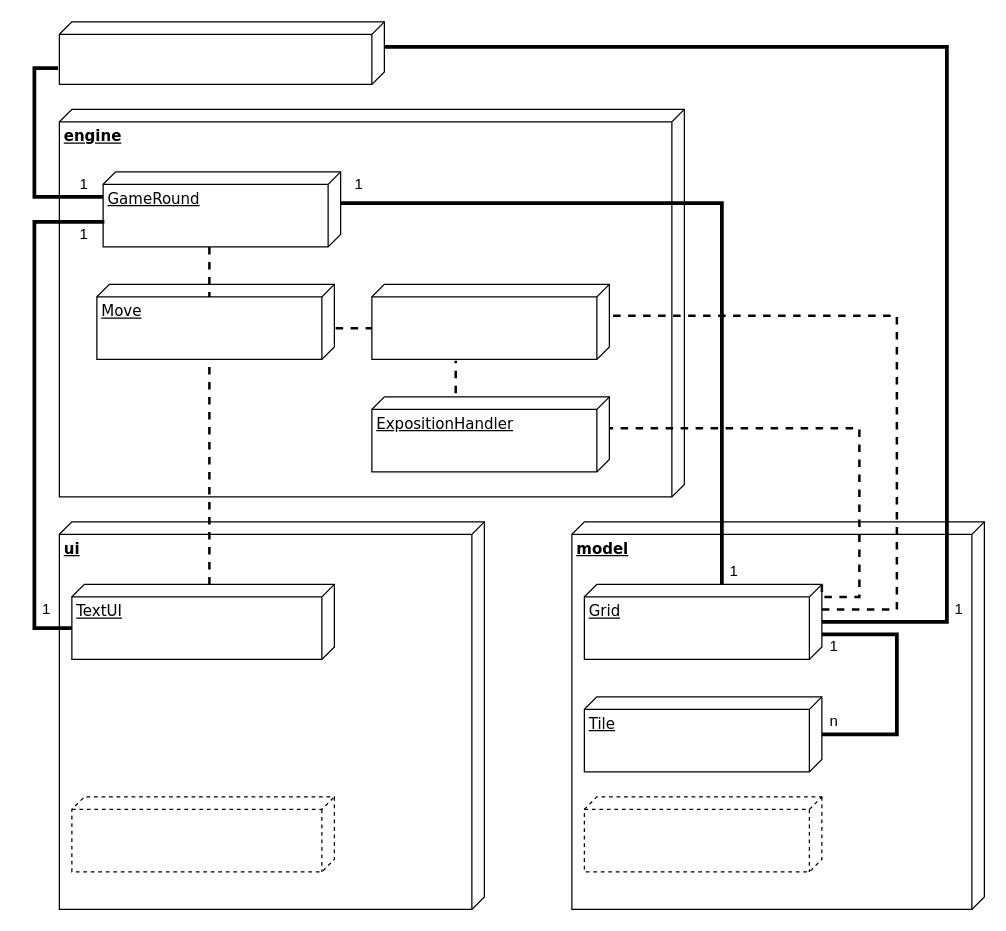
Image size: 1006x931. Some labels were removed from this diagram. Each missing label, with the centre of its shape:
GraphicalUI (not implemented): (x=202, y=834)
main: (x=221, y=52)
MoveResolver: (x=490, y=321)
Timer (not implemented): (x=702, y=834)
